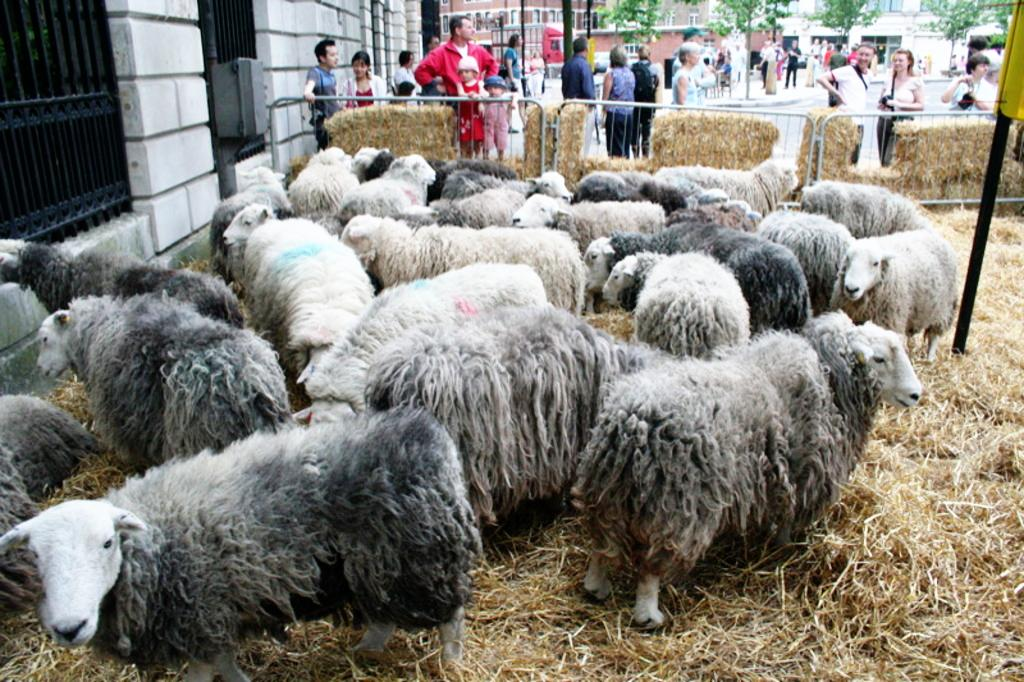Sheep: (0, 407, 483, 681), (566, 311, 926, 629), (365, 316, 676, 529), (36, 294, 298, 483), (298, 262, 554, 422), (0, 227, 245, 374), (333, 213, 586, 316), (218, 204, 380, 355), (826, 230, 957, 368), (599, 244, 813, 328), (0, 382, 113, 539), (599, 248, 751, 364), (570, 227, 770, 299), (506, 190, 666, 256), (801, 174, 937, 246), (658, 157, 805, 216), (213, 158, 295, 257), (338, 147, 439, 225), (441, 172, 575, 227), (364, 148, 513, 193), (290, 142, 361, 232)
